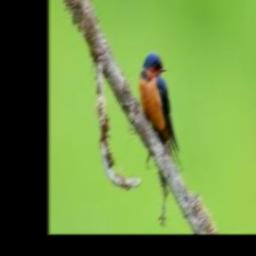Swallow: (139, 53, 182, 175)
